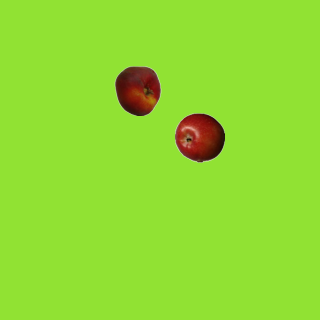Apple Braeburn: (174, 112, 224, 162)
Nectarine Flat: (112, 65, 162, 115)
